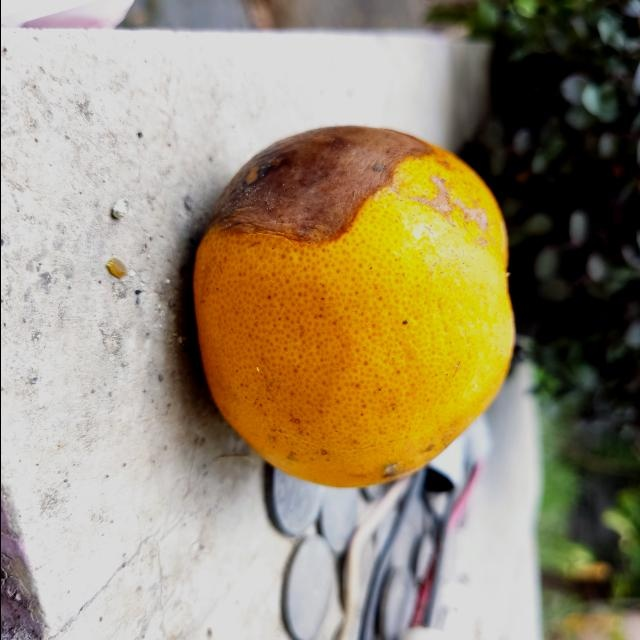agrume: (193, 126, 515, 490)
